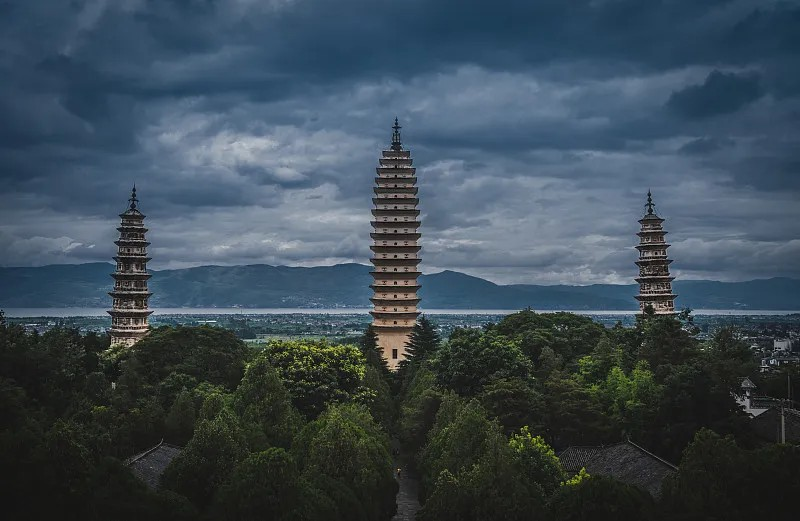ThreePagoda: (368, 115, 423, 367)
